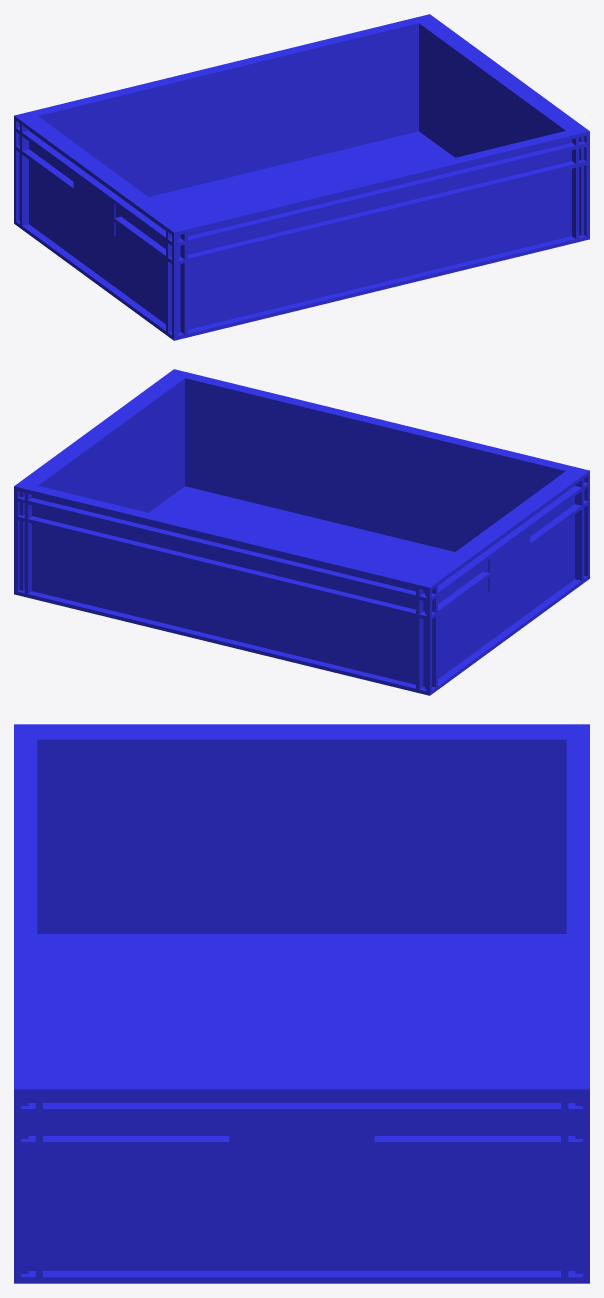
The model's file is emaLIB_KLT_544-364-109-5.dae.
The picture shows the model from 3 angles, top to bottom: view 1: azimuth 30°, elevation 25°; view 2: azimuth 150°, elevation 25°; view 3: azimuth 270°, elevation 25°; orthographic projection. The views are drawn at different scales.
Parts seen in each view (by area): view 1: KLT_544-364-109,5 (×3); view 2: KLT_544-364-109,5 (×3); view 3: KLT_544-364-109,5 (×3).
Boxes of the visible parts, x1,y1,x2,y2 form: KLT_544-364-109,5 (×3): (14, 14, 589, 340); KLT_544-364-109,5 (×3): (14, 369, 589, 695); KLT_544-364-109,5 (×3): (14, 724, 589, 1283).
Bounding box in the file's own units: 23.39 × 15.59 × 5.81.
